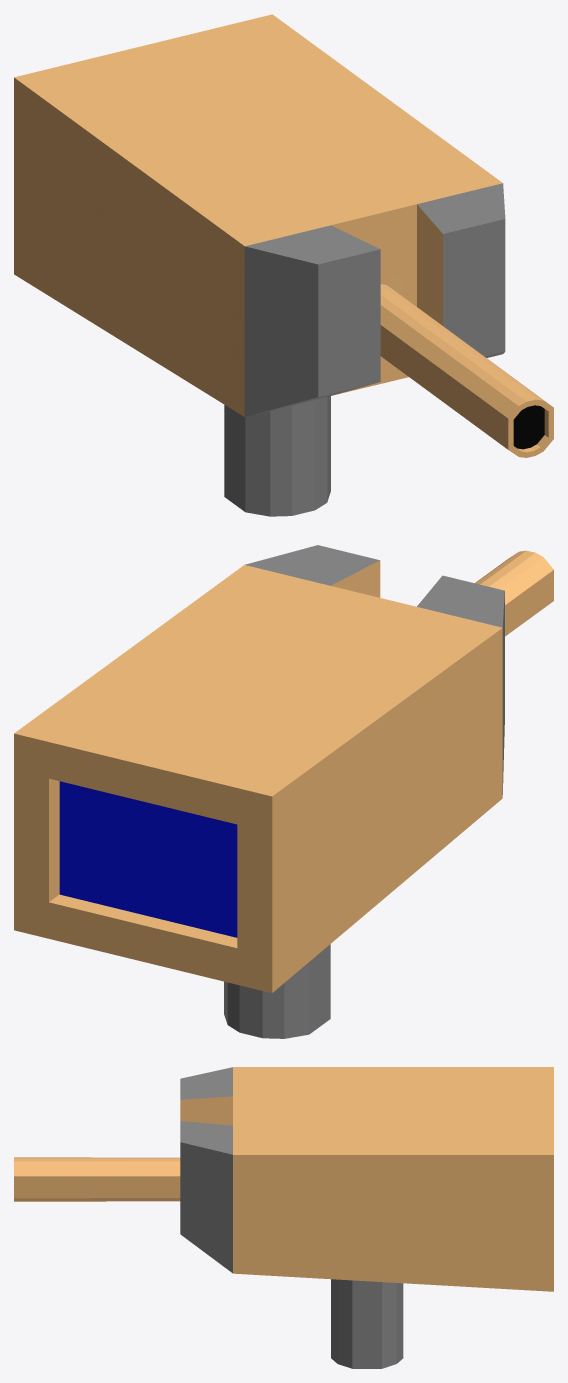
File: DesertTurret.fbx
3 views of the same model, one above another, from view 1: azimuth 30°, elevation 25°; view 2: azimuth 150°, elevation 25°; view 3: azimuth 270°, elevation 25° (orthographic). The views are drawn at different scales.
Parts seen in each view (by area): view 1: Turret, TurretBase; view 2: Turret, TurretBase; view 3: Turret, TurretBase.
Boxes of the visible parts, bbox=[...] form: Turret: bbox=[14, 14, 553, 457]; TurretBase: bbox=[224, 396, 330, 516]; Turret: bbox=[14, 545, 553, 992]; TurretBase: bbox=[224, 944, 330, 1038]; Turret: bbox=[14, 1067, 553, 1291]; TurretBase: bbox=[331, 1279, 403, 1368].
Size of the model in its own units: 260 by 337 by 676.
